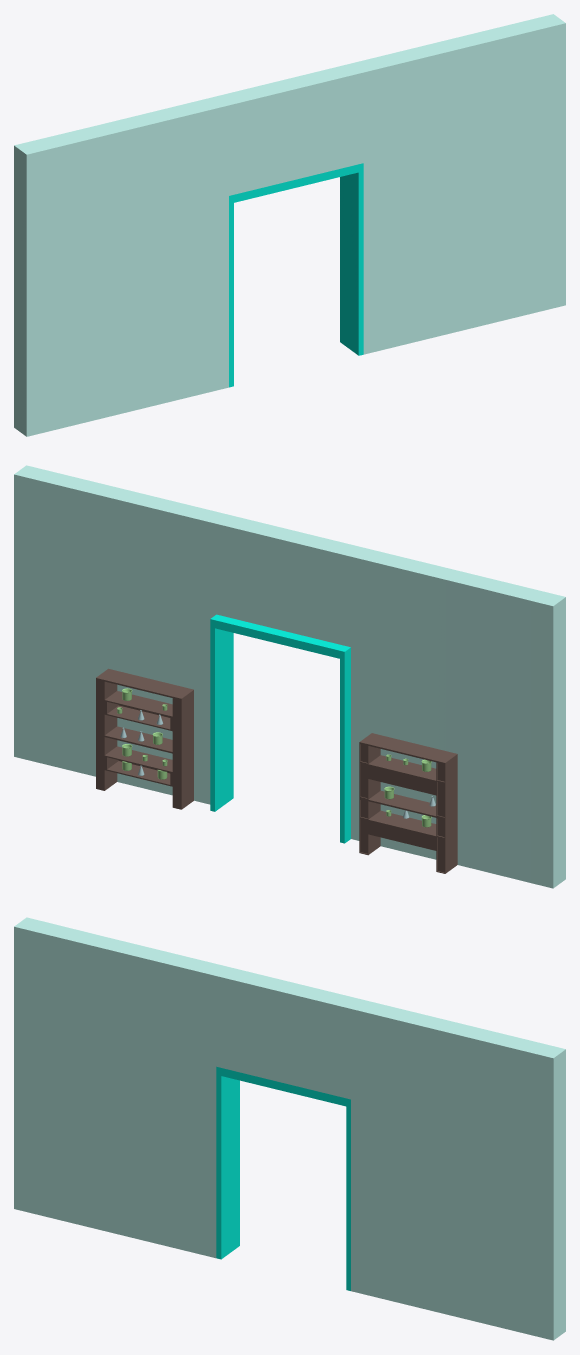
File: BigRoomDoorVariation1.fbx
3 views of the same model, one above another, from view 1: azimuth 30°, elevation 25°; view 2: azimuth 150°, elevation 25°; view 3: azimuth 330°, elevation 25° (orthographic).
Visible parts, largest first — view 1: Wall, DoorFrame; view 2: Wall, DoorFrame, Cube.078, Cube.081, Cube.079, Cube.080; view 3: Wall, DoorFrame.
Part boxes in pixels (left/top/right/bottom): Wall: left=14, top=14, right=565, bottom=436; DoorFrame: left=229, top=163, right=363, bottom=387; Wall: left=14, top=465, right=565, bottom=888; DoorFrame: left=210, top=614, right=350, bottom=843; Cube.078: left=359, top=733, right=457, bottom=818; Cube.081: left=96, top=668, right=193, bottom=754; Cube.079: left=359, top=791, right=457, bottom=873; Cube.080: left=96, top=726, right=193, bottom=809; Wall: left=14, top=917, right=565, bottom=1340; DoorFrame: left=216, top=1066, right=350, bottom=1290.
Bounding box in the file's own units: 100 × 50 × 8.02.
